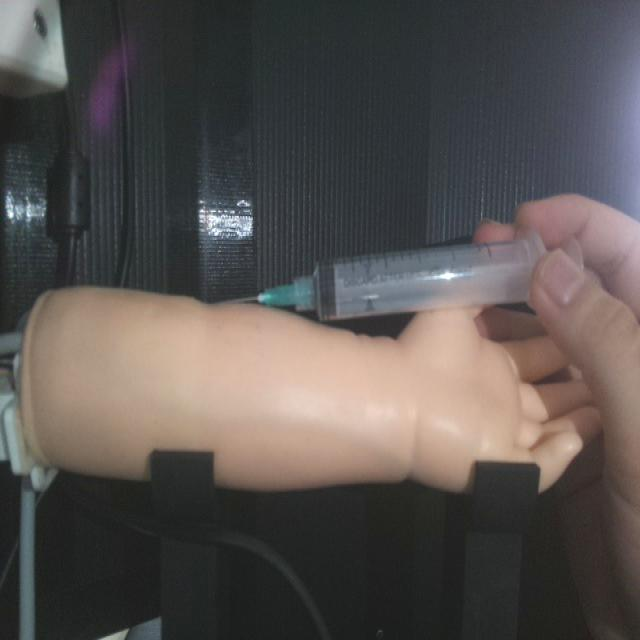Below 15 degrees: (226, 225, 556, 323)
